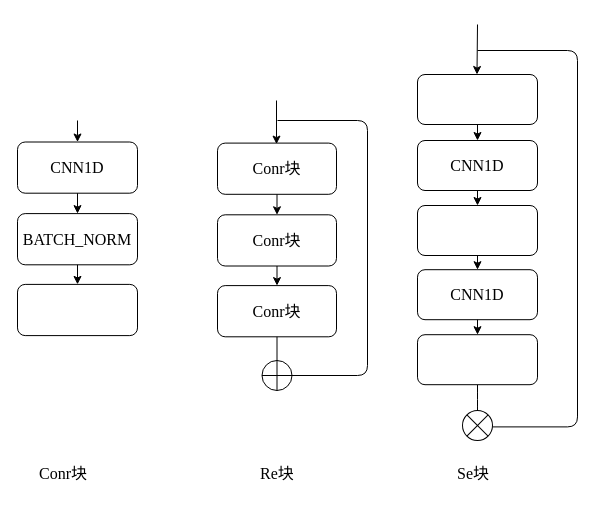
This 596x513 diagram has some shape labels left out. Each missing label, with the centre of its shape:
"ACTIVATION" goes at (x=77, y=309).
"Global Average" goes at (x=477, y=99).
"RELU" goes at (x=477, y=230).
"SIGMOID" goes at (x=477, y=359).
